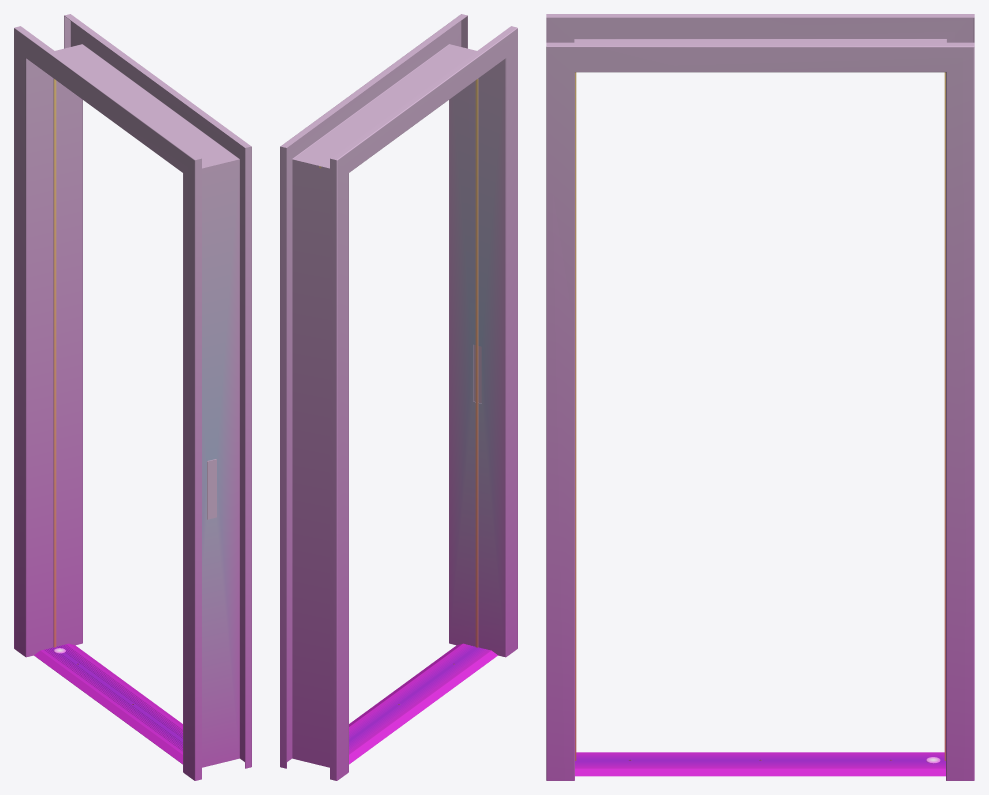
File: Kit_DoorFrame_Steel_Alu_DA.fbx
3 views of the same model, side by side, from view 1: azimuth 30°, elevation 25°; view 2: azimuth 150°, elevation 25°; view 3: azimuth 270°, elevation 25° (orthographic). The views are drawn at different scales.
Visible parts, largest first — view 1: Kit_DoorFrame_Steel_DA_LOD0; view 2: Kit_DoorFrame_Steel_DA_LOD0; view 3: Kit_DoorFrame_Steel_DA_LOD0.
Part boxes in pixels (x1,y1,x2,y2): Kit_DoorFrame_Steel_DA_LOD0: (14,14,251,780); Kit_DoorFrame_Steel_DA_LOD0: (280,14,517,780); Kit_DoorFrame_Steel_DA_LOD0: (546,14,974,780).
Size of what is drawn, in the model's own units: 0.21 by 2.17 by 1.15.
